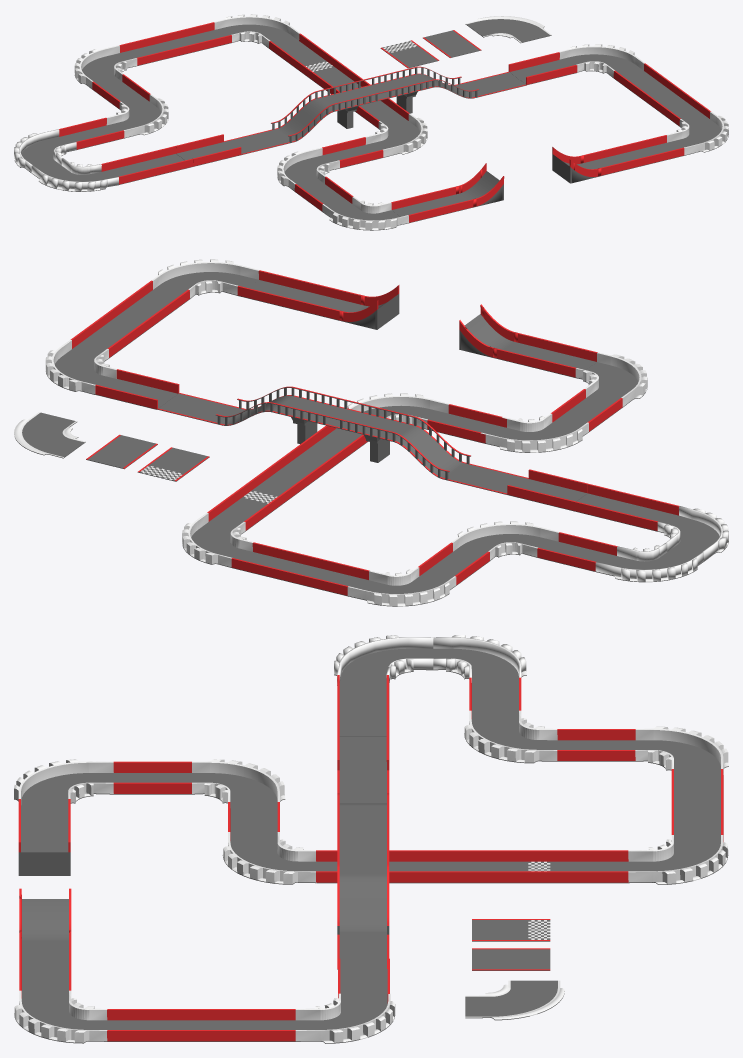
File: TEST-JUMP.glb
The picture shows the model from 3 angles, top to bottom: view 1: azimuth 30°, elevation 25°; view 2: azimuth 150°, elevation 25°; view 3: azimuth 270°, elevation 25°; orthographic projection. The views are drawn at different scales.
Visible parts, largest first — view 1: Cube.004, Cube.011, Cube.014, Cube.009, Cube.008, Cube.026, Cube.013, Cube.007, Cube.024, Cube.002, Cube.022, Cube.016 (+21 smaller); view 2: Cube.004, Cube.016, Cube.002, Cube.009, Cube.013, Cube.007, Cube.024, Cube.026, Cube.008, Cube.014, Cube.011, Cube.018 (+22 smaller); view 3: Cube.004, Cube.026, Cube.008, Cube.013, Cube.024, Cube.007, Cube.015, Cube.014, Cube.011, Cube.002, Cube.022, Cube.016 (+22 smaller).
Part boxes in pixels (x1,y1,x2,y2): Cube.004: (224,66,526,154); Cube.011: (214,14,300,48); Cube.014: (559,44,644,77); Cube.009: (101,146,193,184); Cube.008: (31,158,118,191); Cube.026: (322,196,408,230); Cube.013: (74,45,137,89); Cube.007: (14,129,76,172); Cube.024: (277,147,339,191); Cube.002: (106,94,168,138); Cube.022: (365,113,427,157); Cube.016: (667,111,728,155); Cube.004: (157,386,528,494); Cube.016: (151,259,259,298); Cube.002: (451,521,559,560); Cube.009: (566,484,679,531); Cube.013: (347,567,456,606); Cube.007: (595,543,703,582); Cube.024: (481,413,588,452); Cube.026: (575,352,647,407); Cube.008: (657,506,728,561); Cube.014: (45,340,116,394); Cube.011: (182,513,253,567); Cube.018: (459,304,539,363); Cube.004: (337,770,389,969); Cube.026: (14,759,113,809); Cube.008: (334,635,433,685); Cube.013: (635,726,728,779); Cube.024: (192,759,285,812); Cube.007: (433,635,526,687); Cube.015: (184,1009,295,1041); Cube.014: (295,993,395,1043); Cube.011: (628,835,728,884); Cube.002: (464,710,557,763); Cube.022: (222,832,316,884); Cube.016: (14,990,107,1043).
Bounding box in the file's own units: 257 × 13.68 × 195.
